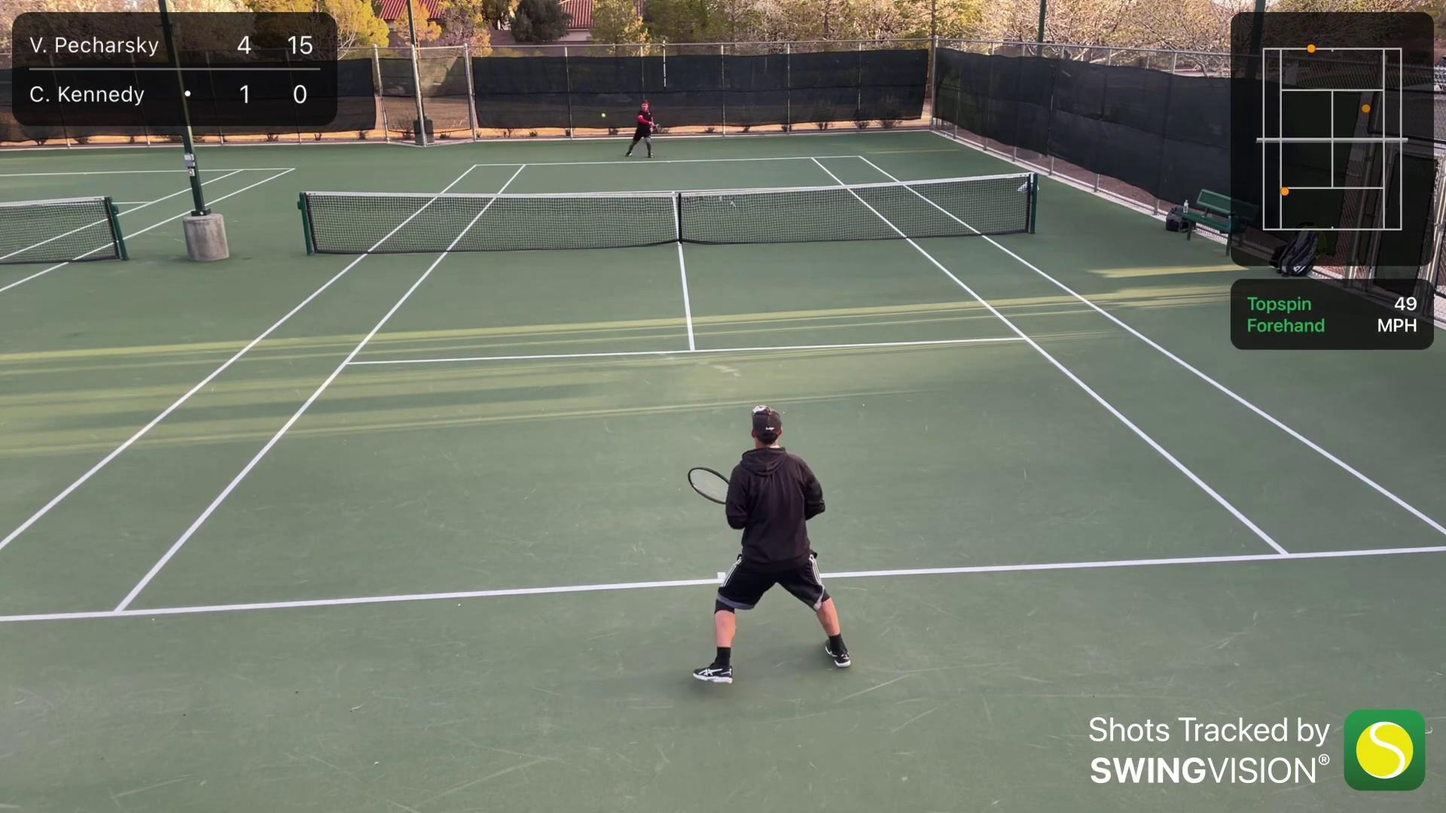ball: (599, 112, 607, 119)
